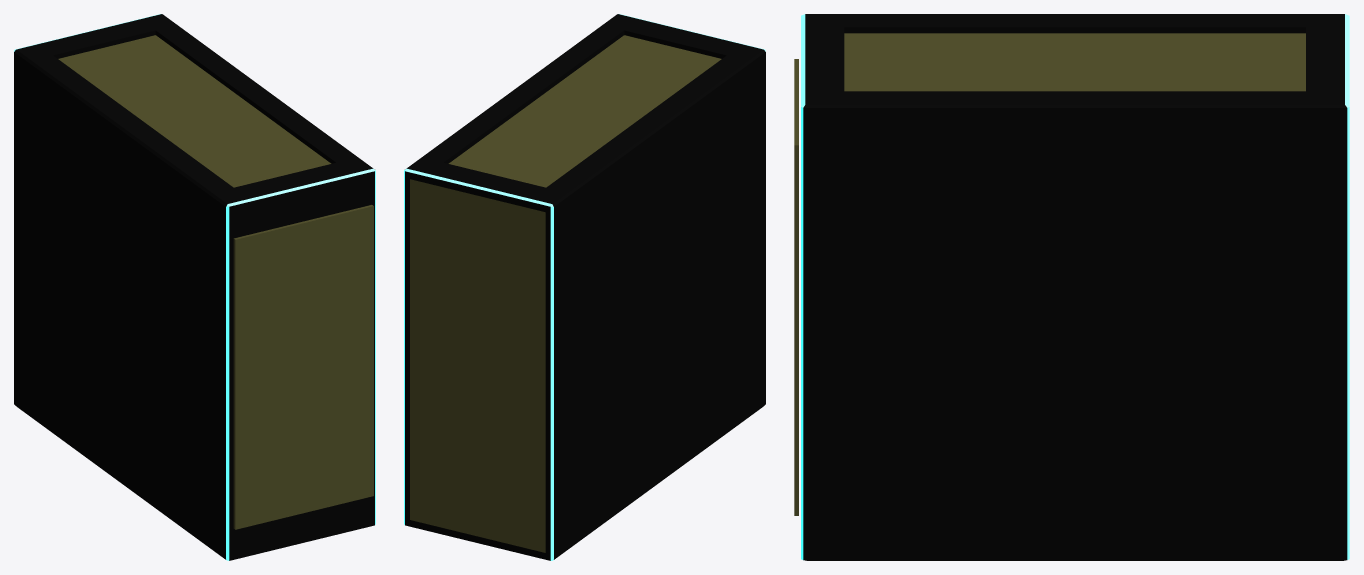
3 renders of one model, left to right at view 1: azimuth 30°, elevation 25°; view 2: azimuth 150°, elevation 25°; view 3: azimuth 270°, elevation 25°, orthographic. The views are drawn at different scales.
Parts seen in each view (by area): view 1: cpu; view 2: cpu; view 3: cpu.
Boxes of the visible parts, box(x1,y1,x2,y2) form: cpu: box(14, 14, 375, 560); cpu: box(404, 14, 765, 560); cpu: box(794, 14, 1349, 560).
Bounding box in the file's own units: 87.57 × 200 × 221.
